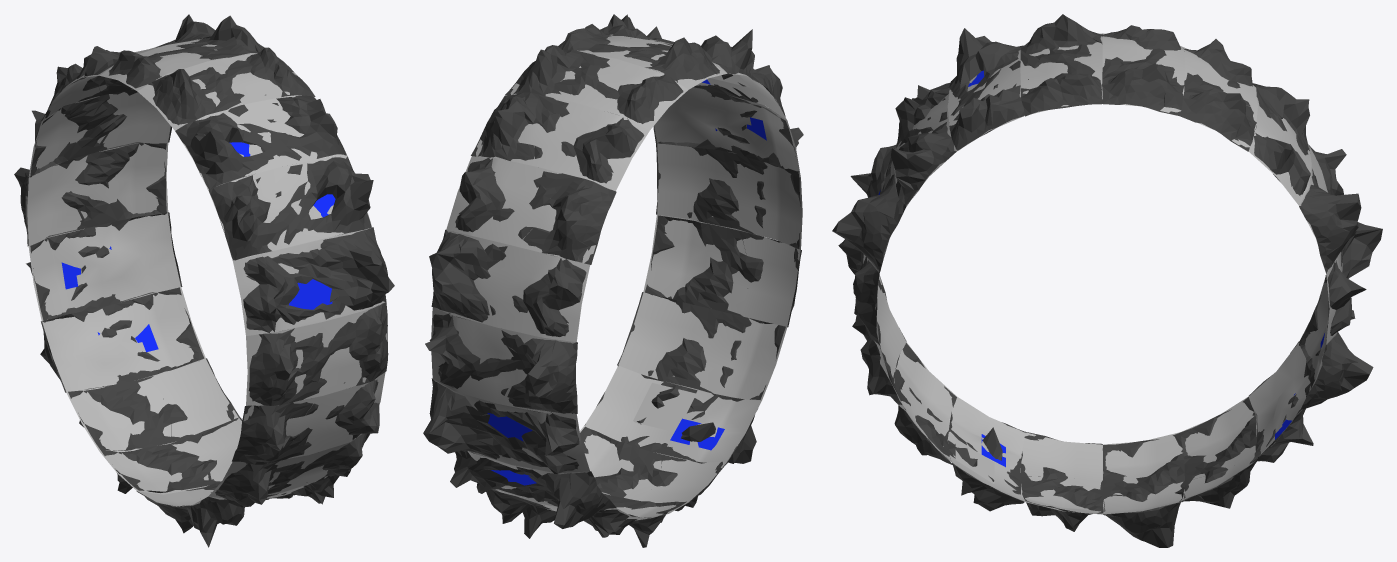
File: final_Environment.FBX
3 renders of one model, left to right at view 1: azimuth 30°, elevation 25°; view 2: azimuth 150°, elevation 25°; view 3: azimuth 270°, elevation 25°, orthographic. The views are drawn at different scales.
Parts seen in each view (by area): view 1: Sphere086, Sphere080, Sphere085, Sphere084, Sphere083, Sphere087, Sphere076, Object002, Sphere088, Sphere077, Sphere082, Sphere089 (+6 smaller); view 2: Sphere082, Sphere088, Sphere081, Sphere090, Sphere091, Sphere083, Sphere087, Object001, Sphere084, Sphere078, Sphere086, Sphere092 (+6 smaller); view 3: Sphere089, Sphere077, Sphere076, Sphere092, Sphere078, Sphere091, Object002, Object001, Sphere080, Sphere081, Sphere085, Sphere090 (+6 smaller).
Boxes of the visible parts, box(x1,y1,x2,y2) form: Sphere086: box(233, 227, 394, 335); Sphere080: box(208, 156, 373, 260); Sphere085: box(40, 287, 205, 392); Sphere084: box(26, 212, 182, 320); Sphere083: box(14, 143, 168, 246); Sphere087: box(246, 302, 388, 405); Sphere076: box(175, 95, 347, 190); Object002: box(66, 358, 239, 452); Sphere088: box(232, 372, 385, 464); Sphere077: box(137, 47, 315, 130); Sphere082: box(28, 89, 171, 176); Sphere089: box(100, 417, 242, 494); Sphere082: box(429, 229, 590, 342); Sphere088: box(643, 214, 801, 327); Sphere081: box(446, 156, 616, 264); Sphere090: box(617, 292, 787, 400); Sphere091: box(584, 365, 761, 463); Sphere083: box(425, 307, 577, 413); Sphere087: box(656, 143, 802, 249); Object001: box(471, 92, 649, 191); Sphere084: box(423, 378, 589, 473); Sphere078: box(505, 45, 688, 130); Sphere086: box(653, 87, 803, 177); Sphere092: box(579, 426, 728, 511); Sphere089: box(1102, 432, 1184, 547); Sphere077: box(1020, 14, 1102, 116); Sphere076: box(947, 28, 1024, 151); Sphere092: box(1020, 431, 1103, 531); Sphere078: box(1102, 25, 1185, 116); Sphere091: box(947, 396, 1025, 511); Object002: box(1180, 396, 1256, 508); Object001: box(1180, 39, 1257, 151); Sphere080: box(891, 83, 956, 206); Sphere081: box(1248, 83, 1311, 205); Sphere085: box(1248, 341, 1325, 464); Sphere090: box(894, 342, 956, 465).
Size of the model in its own units: 46.24 by 146 by 151.
